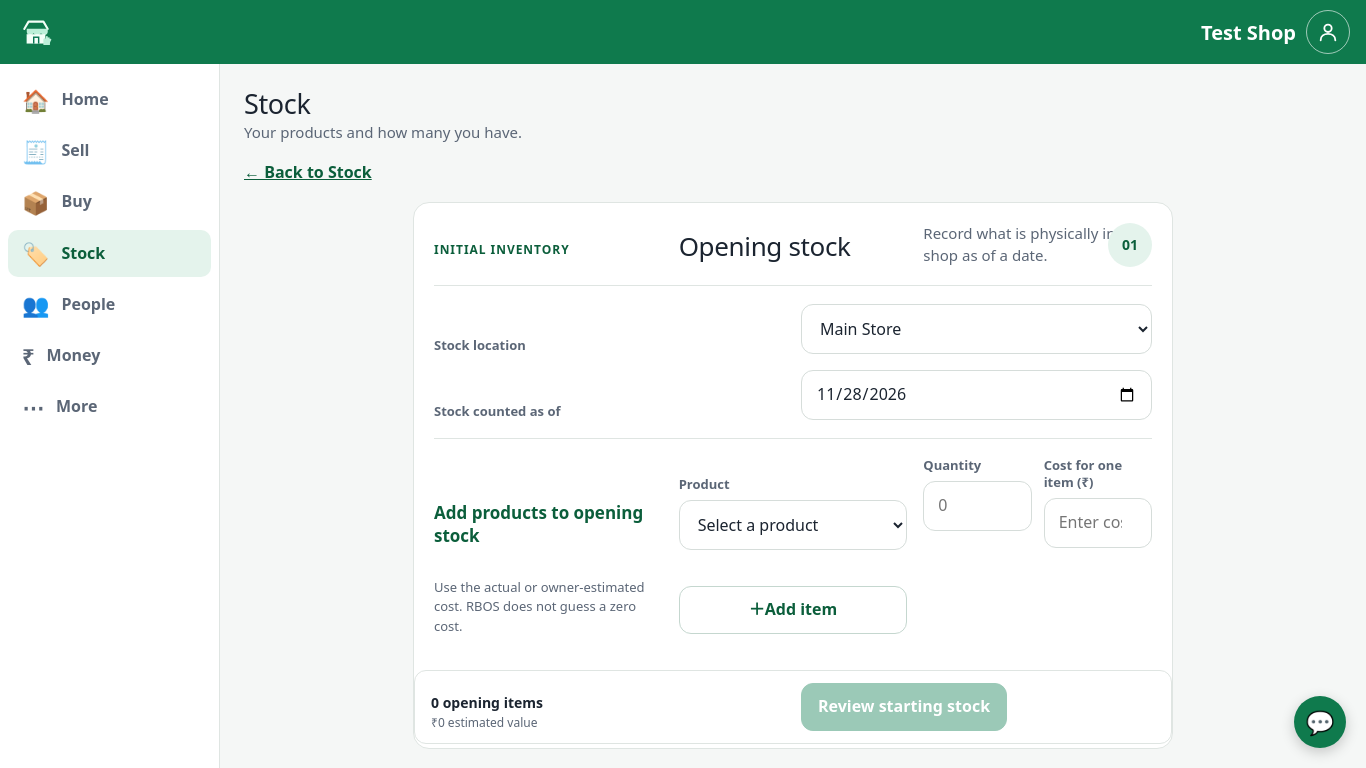
Test: Opening stock form › posts a line with an idempotency key and shows the server total
Select "Test Cable (SKU-1)" in the dropdown labelled "Product": (793,525) [679, 500, 907, 550]
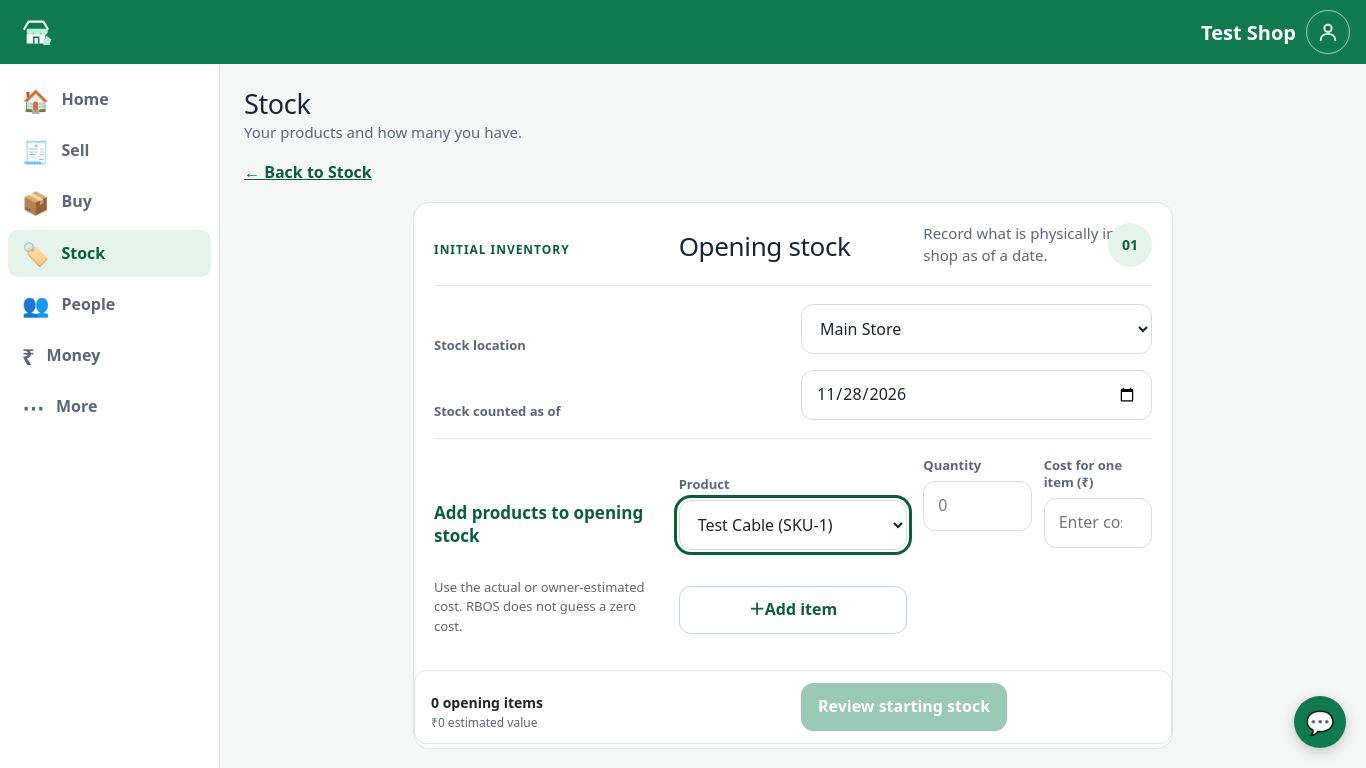
In the number field labelled "Quantity": (977,506) [923, 481, 1032, 531], type "10"
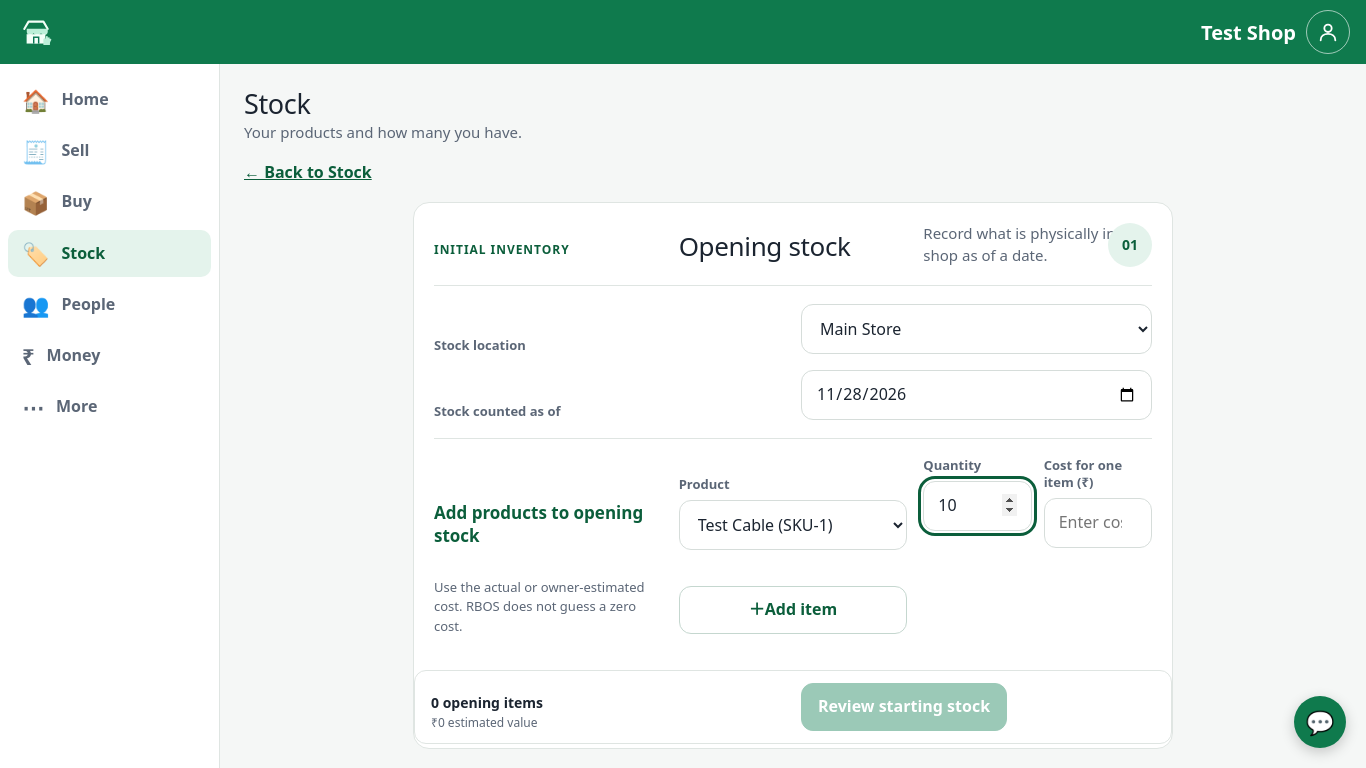
In the number field labelled "Cost for one item (₹)": (1098,523) [1044, 498, 1152, 548], type "25.5"
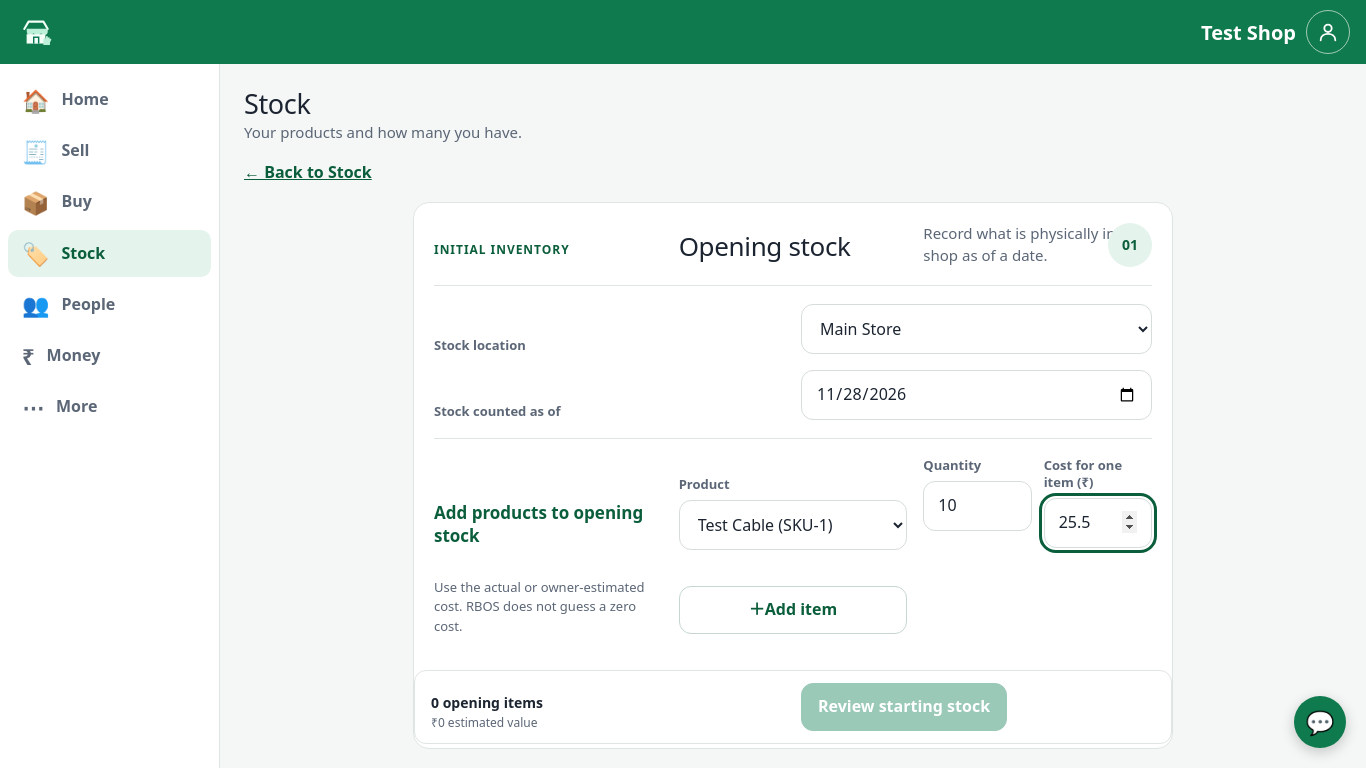
Click the button "＋ Add item": (793,610) [679, 586, 907, 634]
(page scrolled)
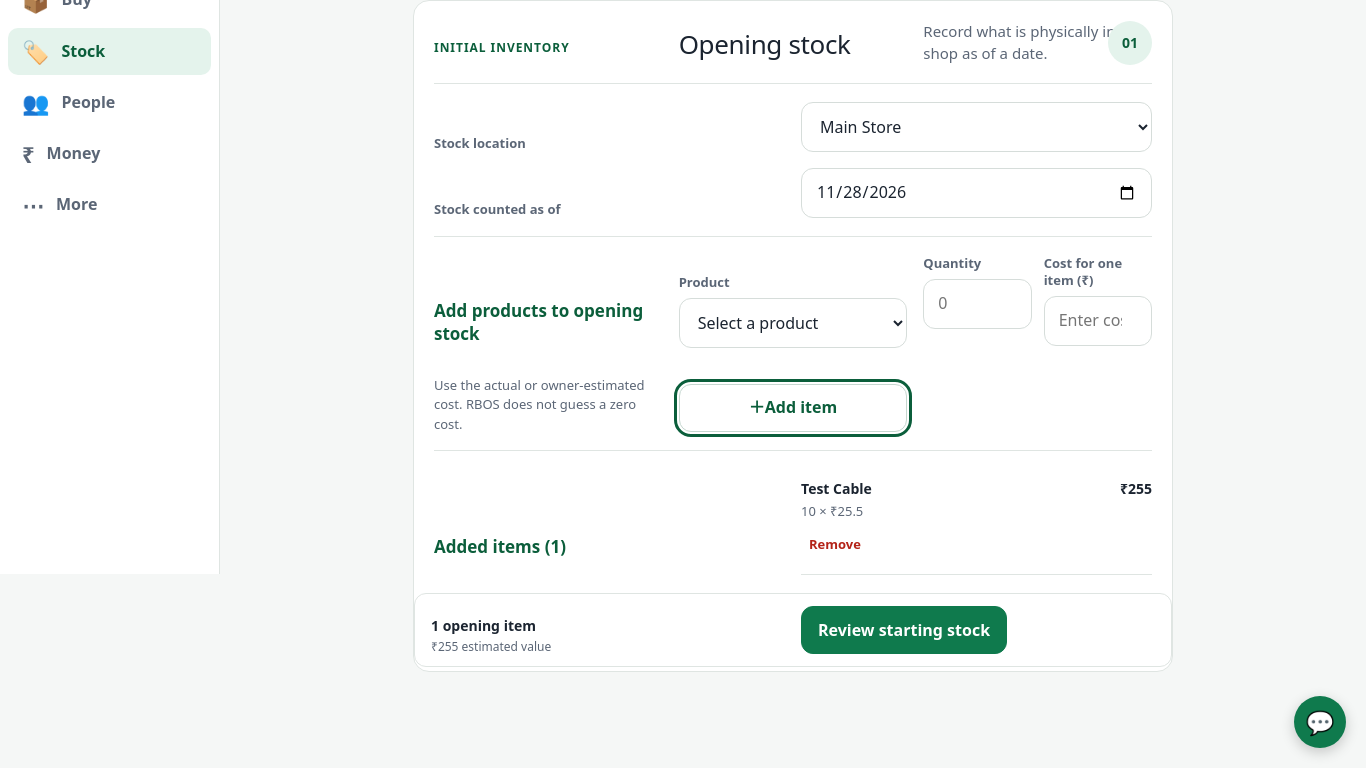
Click the button "Review starting stock": (904,630) [801, 606, 1007, 654]
(page scrolled)
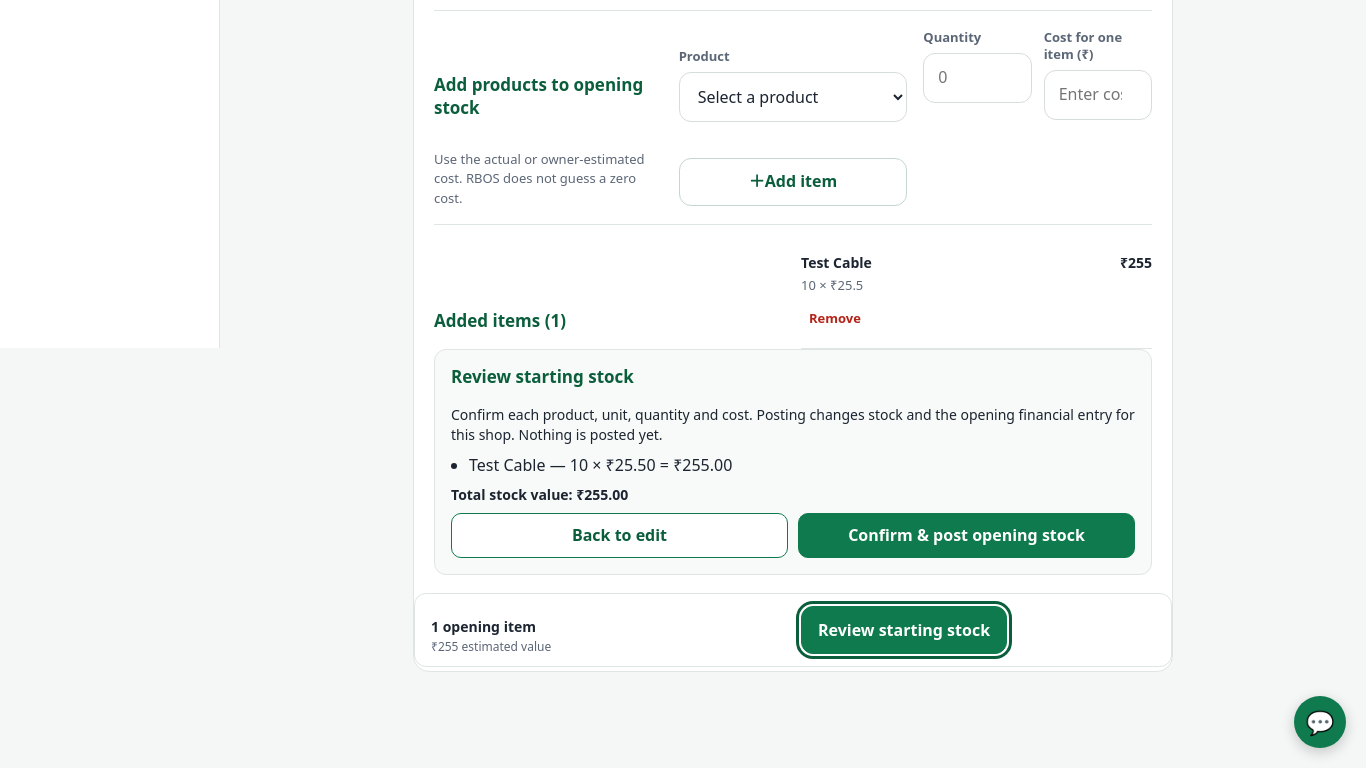
Expected: the element named "Review opening stock" is shown, [434, 349, 1152, 575]
Click the button "Confirm & post opening stock": (966,536) [798, 513, 1135, 558]
(page scrolled)
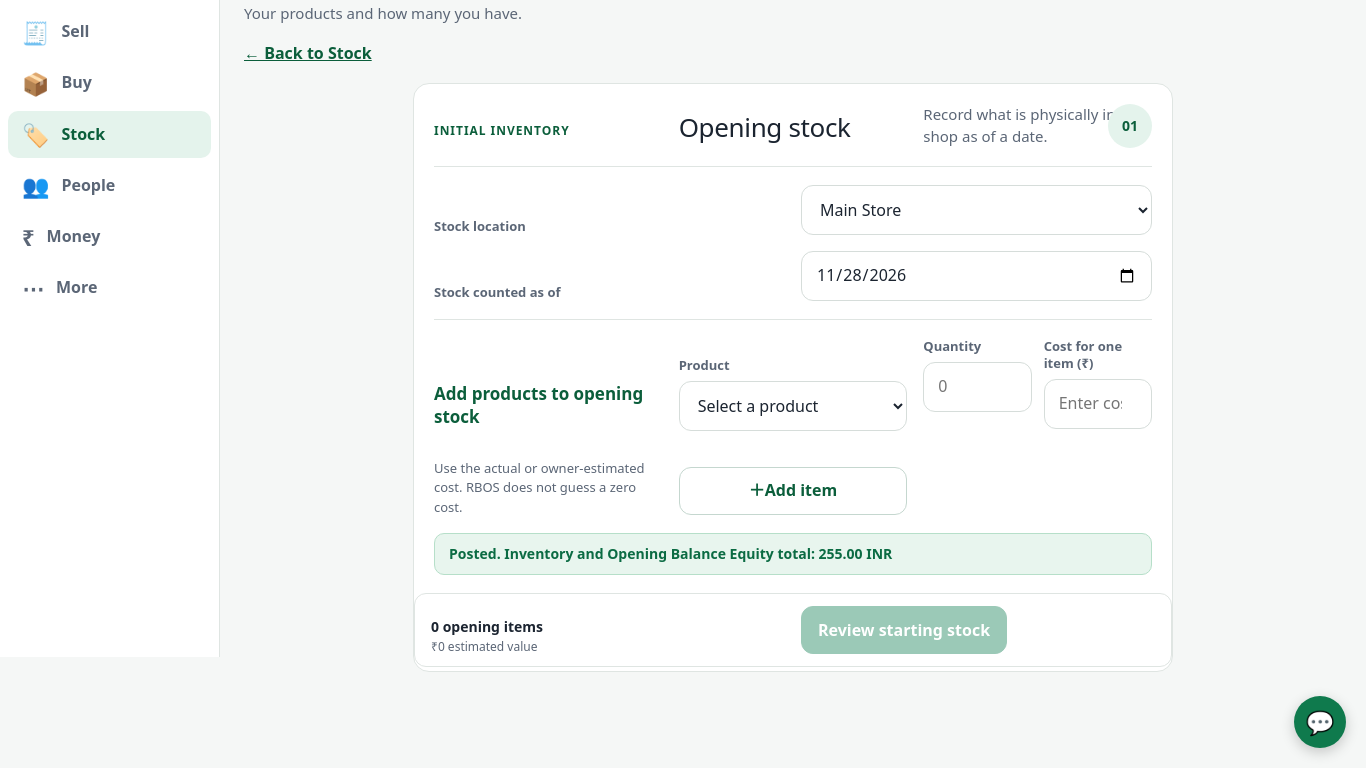
Expected: the message shows "255.00 INR", [449, 544, 892, 563]
